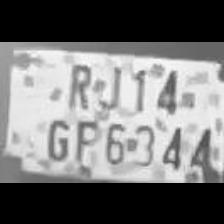1: (123, 63, 149, 111)
3: (125, 118, 153, 166)
4: (184, 119, 212, 176), (150, 63, 180, 113), (155, 118, 183, 170)
6: (100, 115, 126, 167)
G: (39, 112, 71, 162)
J: (93, 60, 121, 110)
P: (71, 113, 99, 168)
R: (62, 56, 92, 108)
